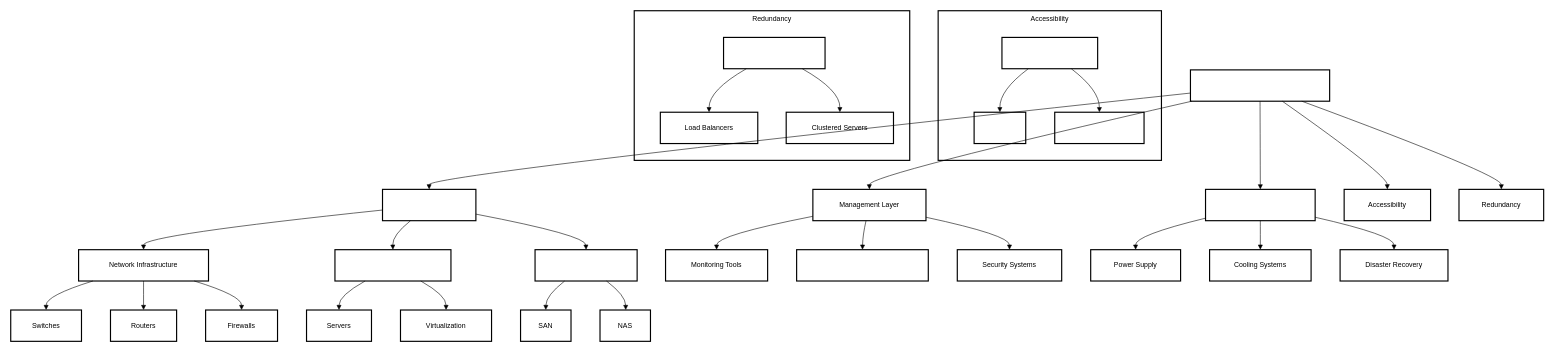
The diagram is 1554 pixels wide and 351 high, and some of its shapes have lost their labels. The centre of each missing label's shape, as x and y in pixels:
Compute Resources: the point at 392,265
Data Center Architecture: the point at 1260,85
Direct Access: the point at 1099,127
High Availability: the point at 774,53
Operational Layer: the point at 1260,204
Orchestration Software: the point at 862,265
Physical Layer: the point at 429,204
Remote Access: the point at 1049,53
Storage Systems: the point at 585,265
VPN: the point at 999,127
